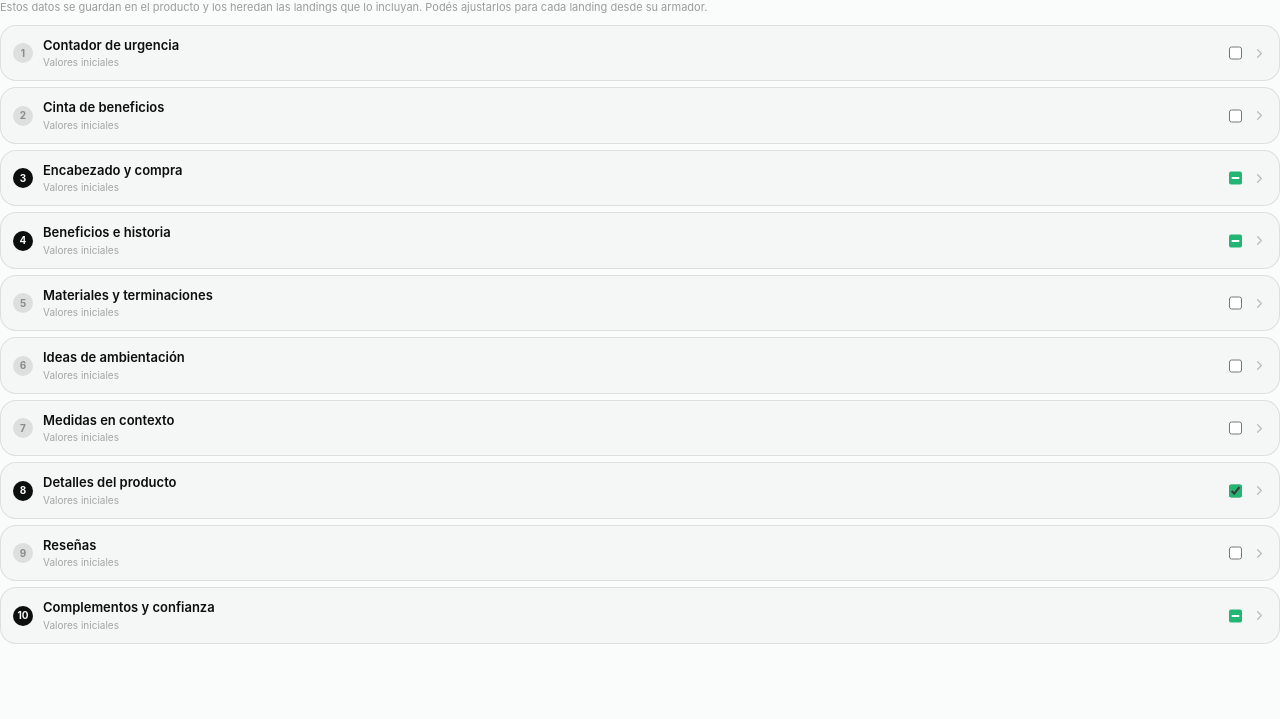
Test case: Persistencia de ficha bazar › carga los paquetes guardados y permite editar sus notas sin incluir bumps
Click the button "3 Encabezado y compra Valores iniciales". click: (113, 170)
box: [0, 150, 1279, 206]
(page scrolled)
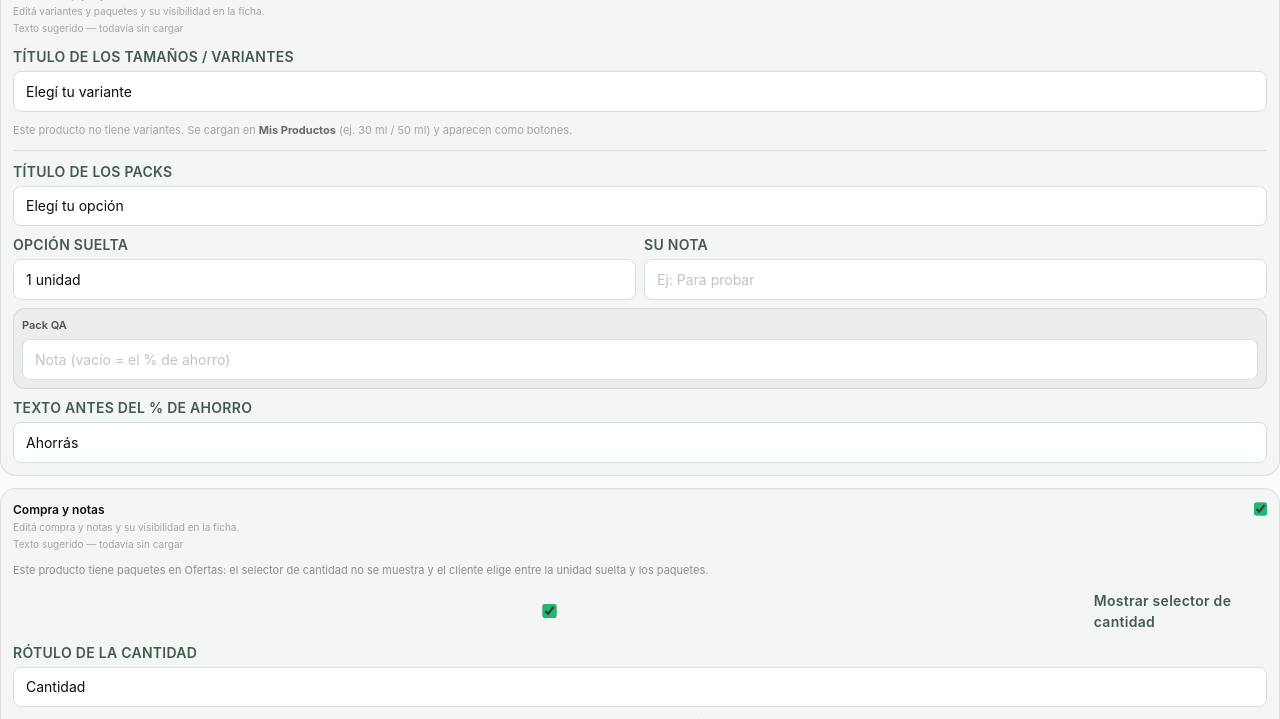
Expected: the text "Pack QA" is shown, [22, 318, 67, 332]
Expected: the field with placeholder "Nota (vacío = el % de ahorro)" is shown, [22, 339, 1258, 380]
